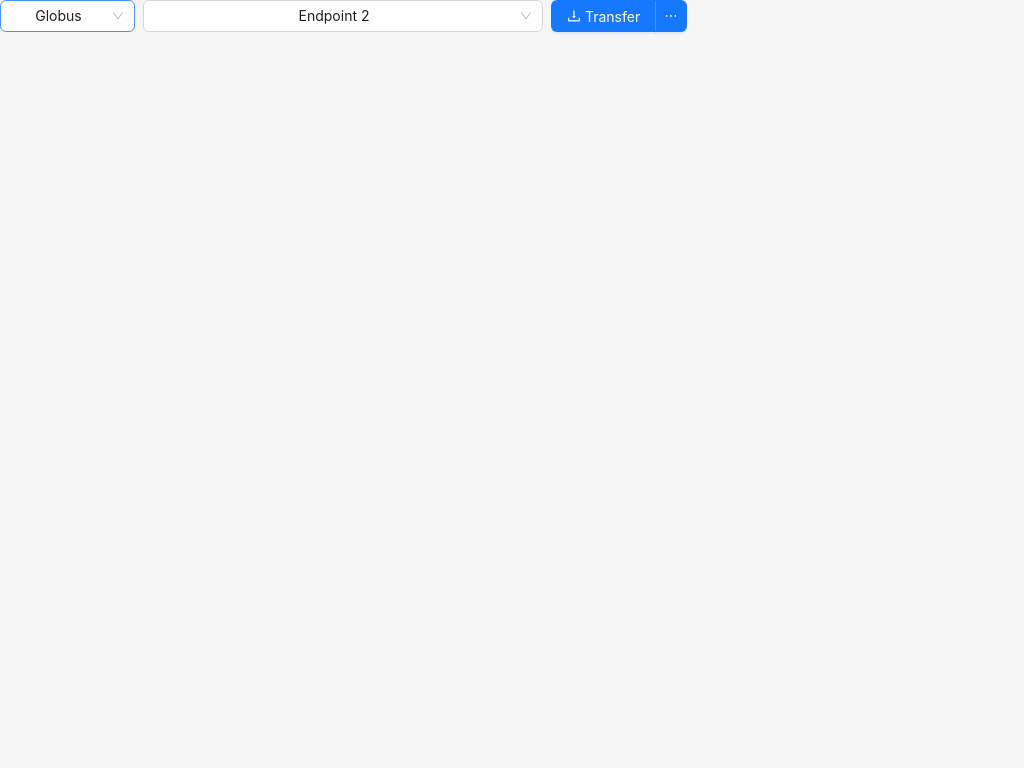
Scenario: DatasetDownload form tests › alerts when some items are not transferable via Globus
The width and height of the screenshot is (1024, 768).
Check: the element with test id "downloadDatasetTransferBtn" is shown, box [567,8,640,24]
Click the button with test id "downloadDatasetTransferBtn" at (604, 16), box [551,0,656,32]
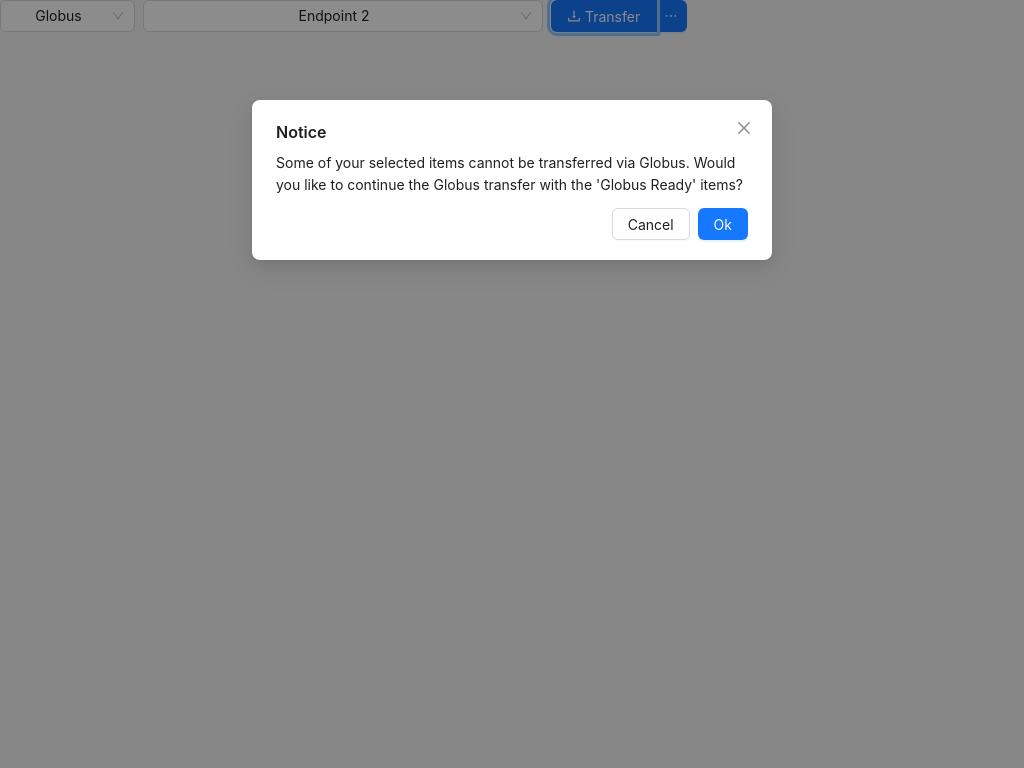
Check: the text "Some of your selected items cannot be transferred via Globus." is shown, box [276,154,743,193]
